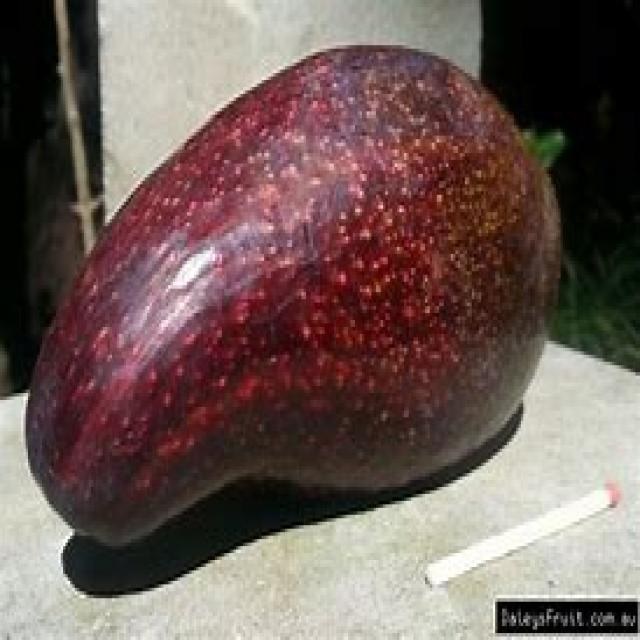Avocado: (30, 29, 591, 576)
